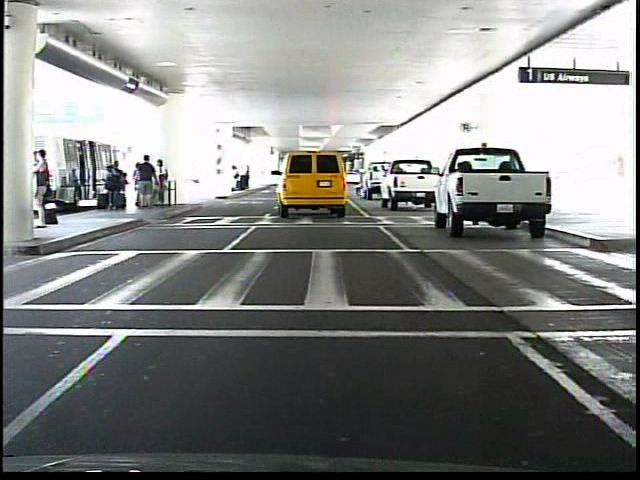person: (38, 146, 55, 230)
